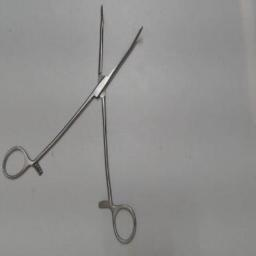Lahey Forceps: (1, 2, 149, 248)
